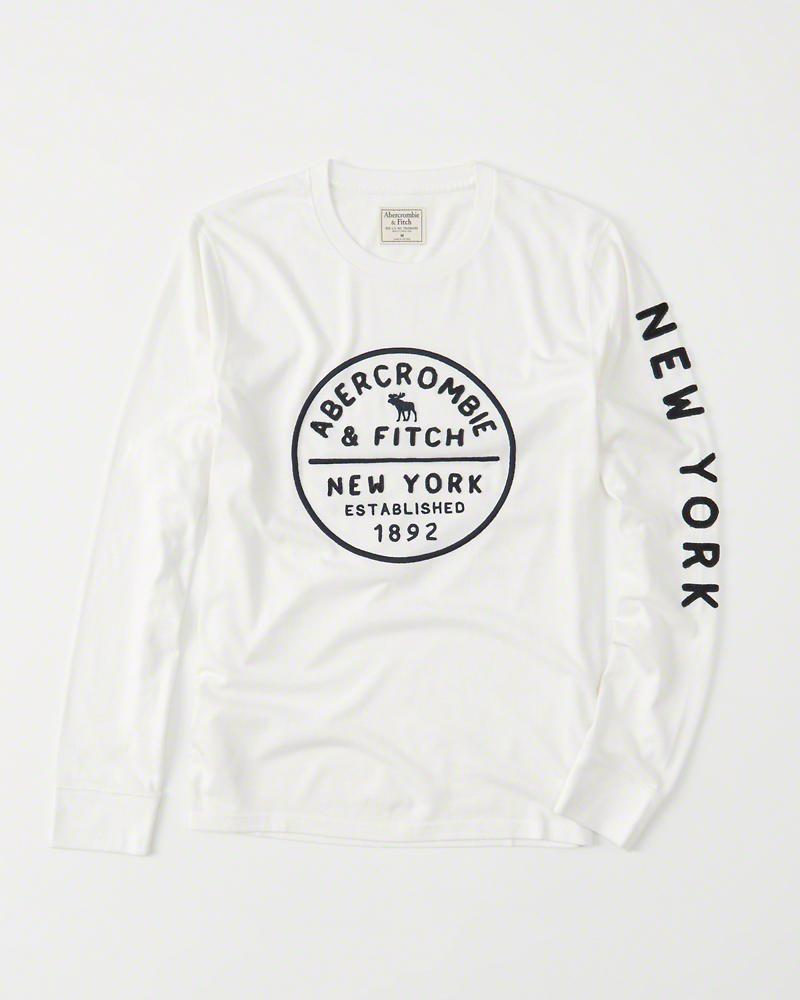teeshirt: (38, 162, 791, 942)
